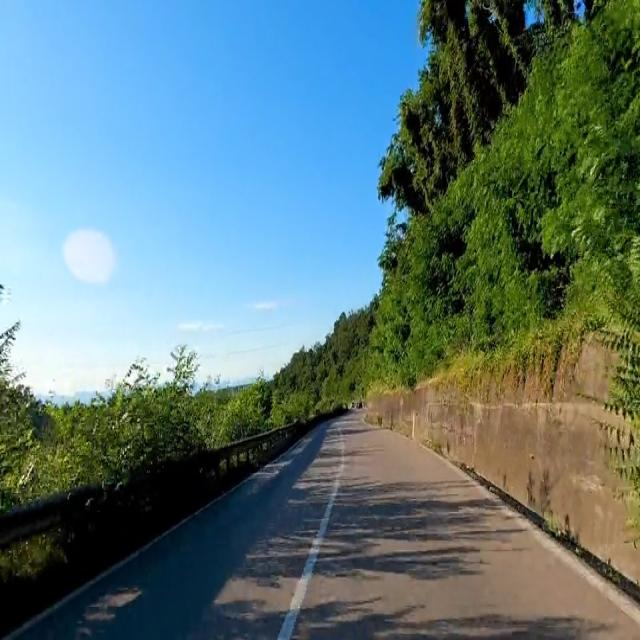lane: (277, 434, 343, 639)
road: (15, 411, 639, 638)
